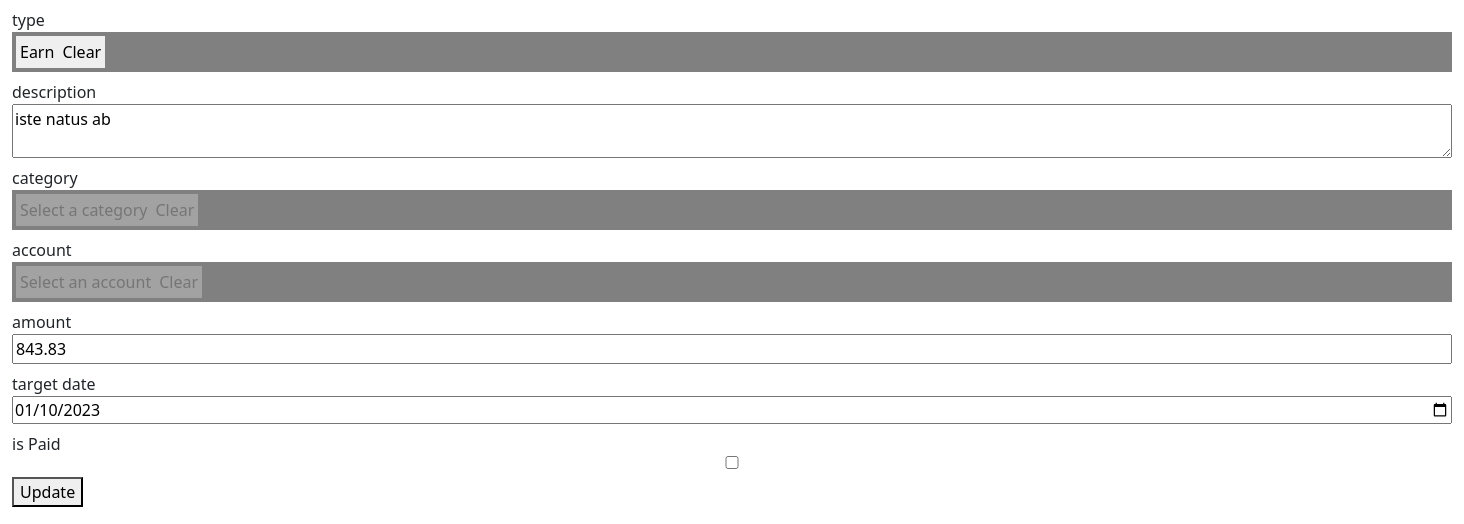
Scenario: on loading › should disable the submit button
The width and height of the screenshot is (1464, 524).
Step 1. Click the button "Update" → point(48, 492), box [12, 477, 83, 507]
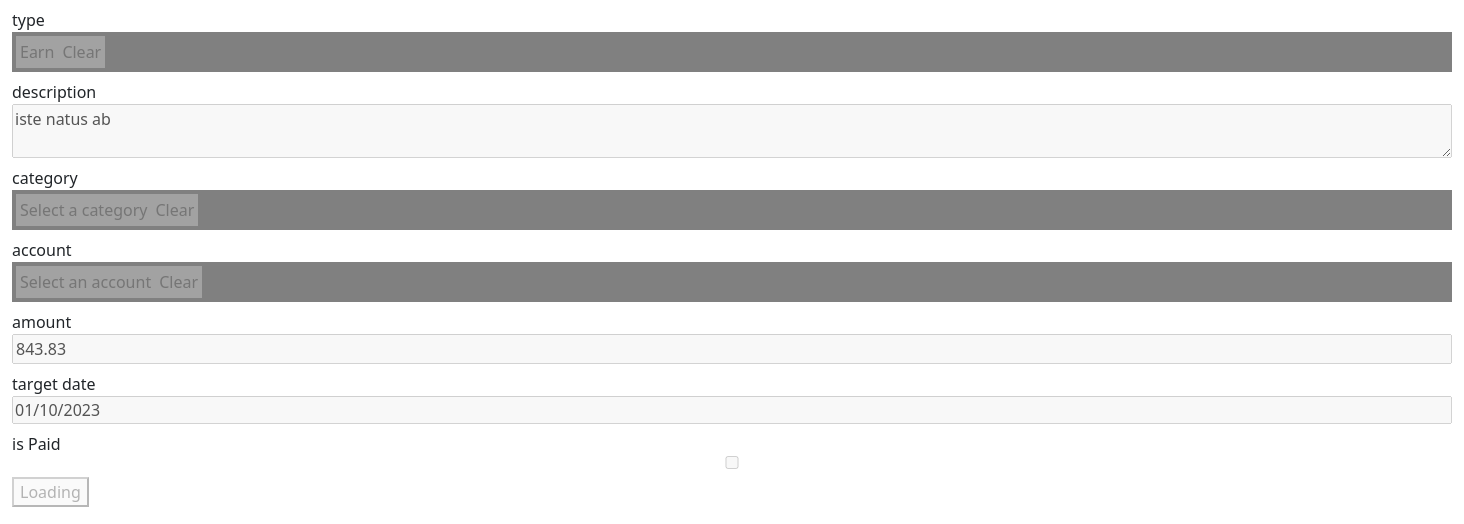
Expected: the button "Update" is disabled, [12, 477, 89, 507]
